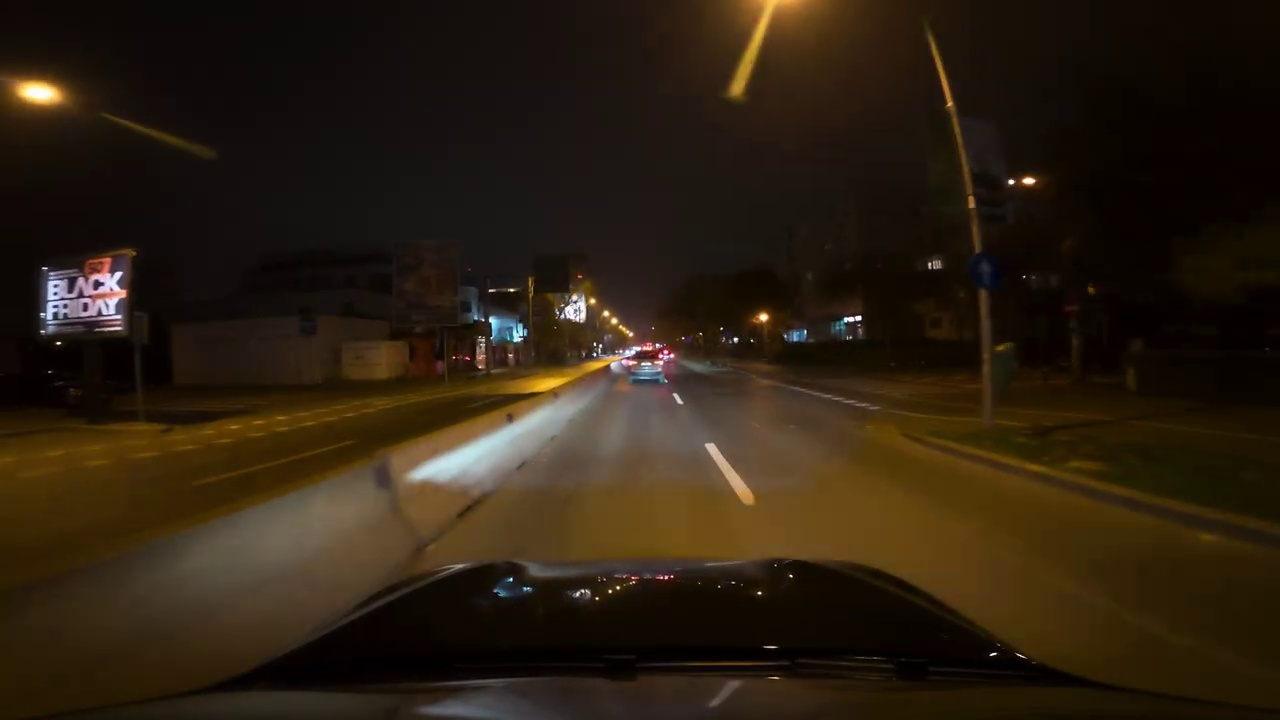acesa: (14, 78, 63, 112)
